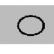no answer: (16, 15, 47, 37)
